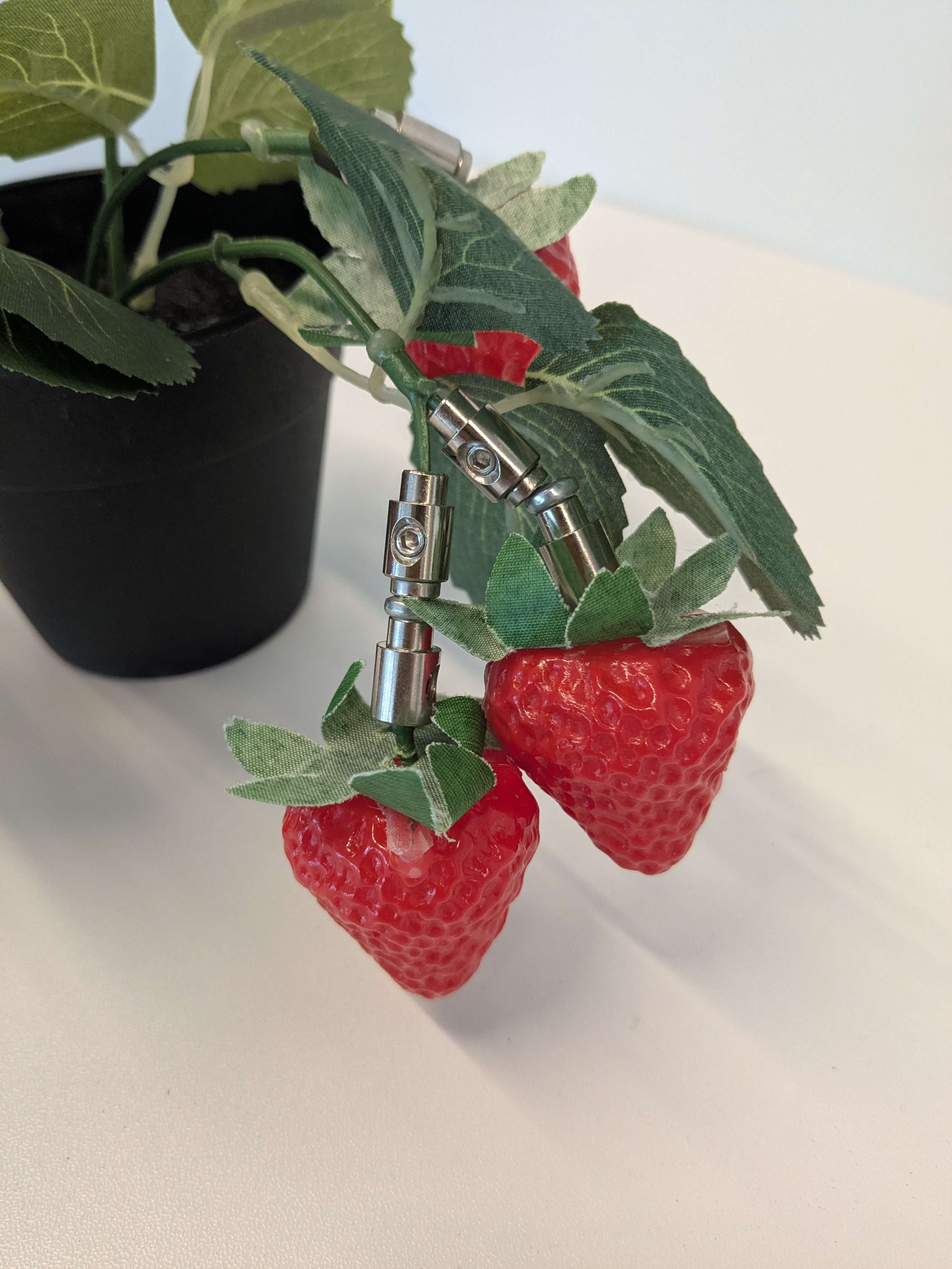Strawberry: (235, 708, 543, 1033), (482, 608, 775, 904), (392, 211, 598, 398)
